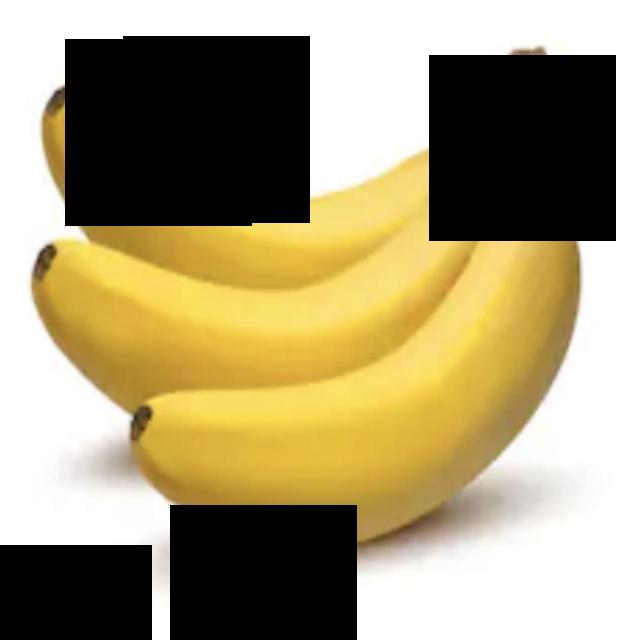banana: (109, 55, 580, 618)
